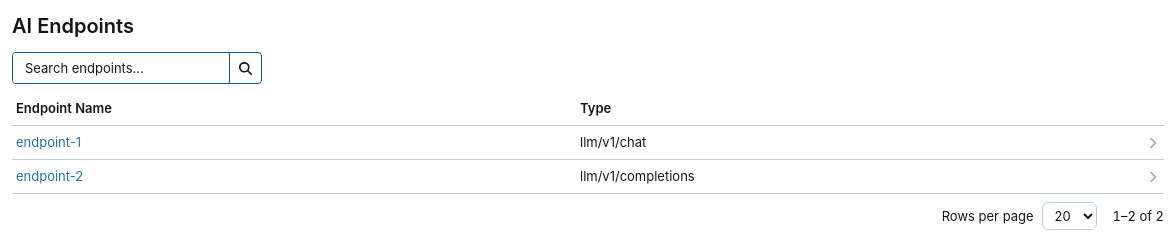
Test: AiEndpointsPage › filters endpoints by search term
This screenshot has width=1176, height=247.
Type "endpoint-1" into the field with placeholder "Search endpoints..." at x=121, y=68, box [13,53,229,83]
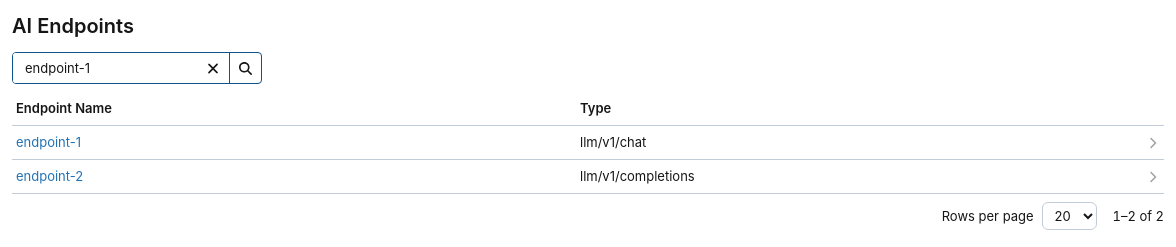
Submit the form from the field with placeholder "Search endpoints...", box [13,53,229,83]
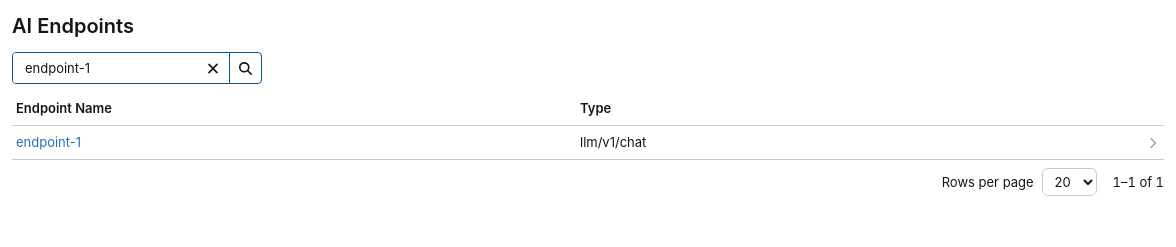
Check: the link "endpoint-1" is shown, box [16,134,81,150]
Check: the link "endpoint-2" is gone
